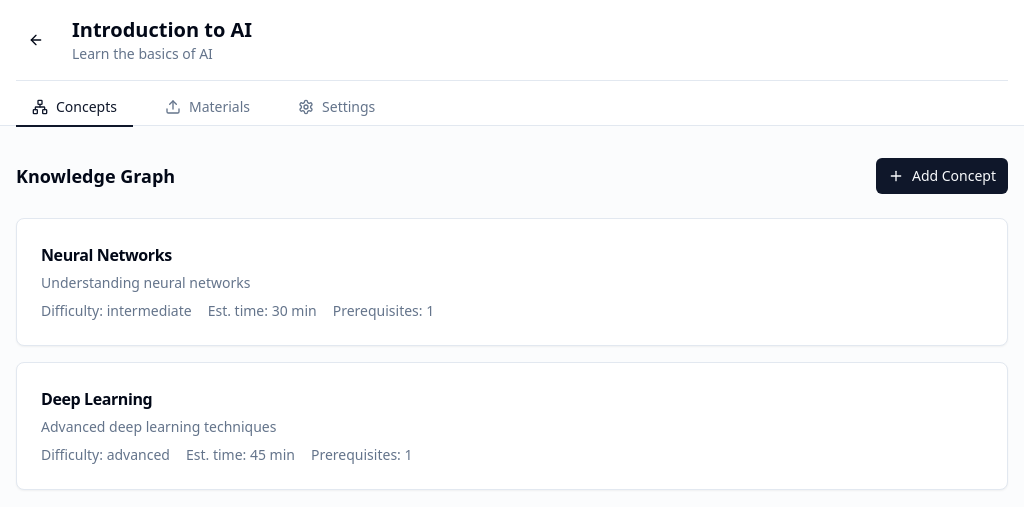
Test case: CourseBuilder › tabs › should switch to materials tab
Expected: the heading "Introduction to AI" is shown, [72,16,252,44]
Click the button "Materials". click: coordinates (208, 108)
box: [149,89,266,127]
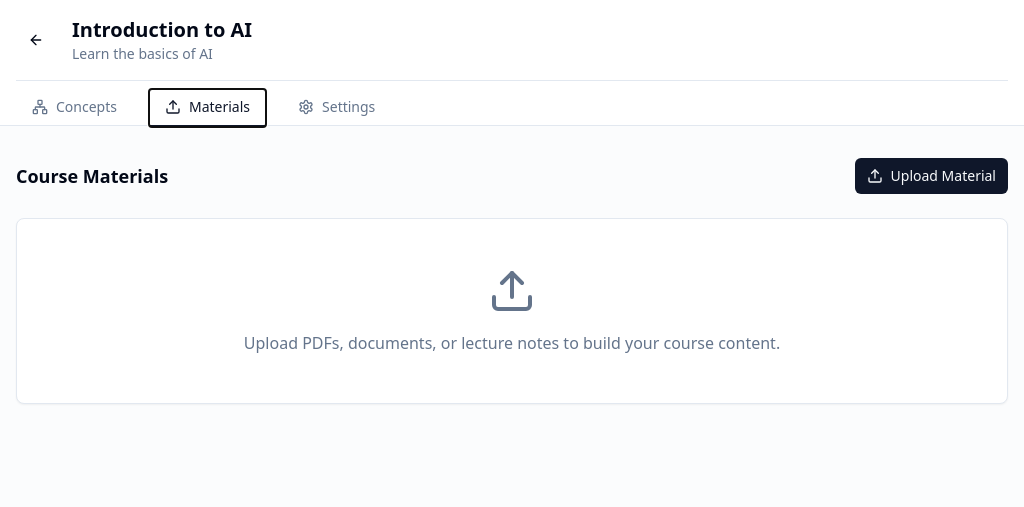
Expected: the heading "Course Materials" is shown, [16,162,168,190]
